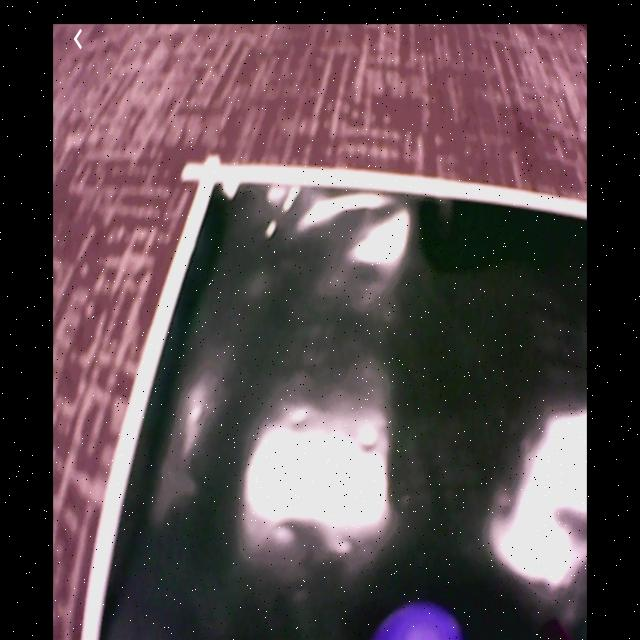ball: (375, 607, 464, 640)
